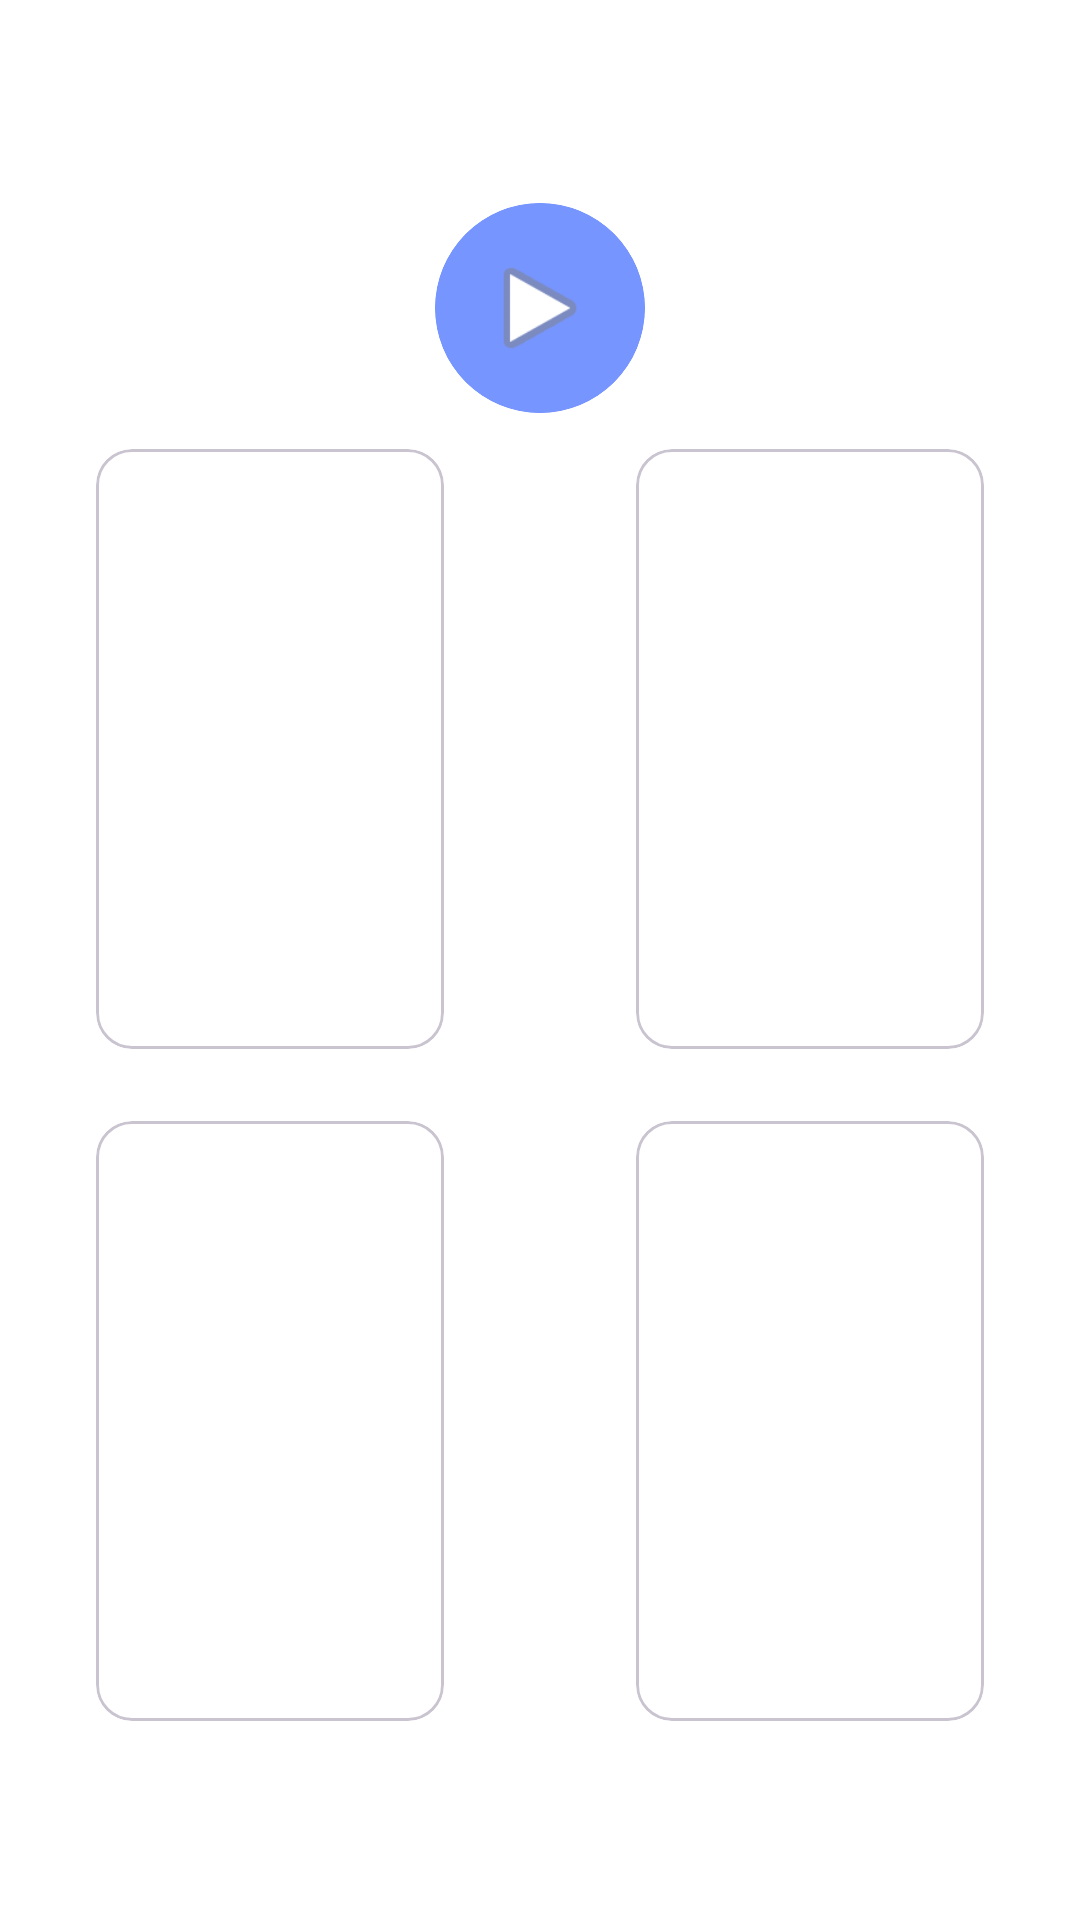

Icon click points for this 1080x1920 phone screenshot, format [x,y]:
play: [540,308]
